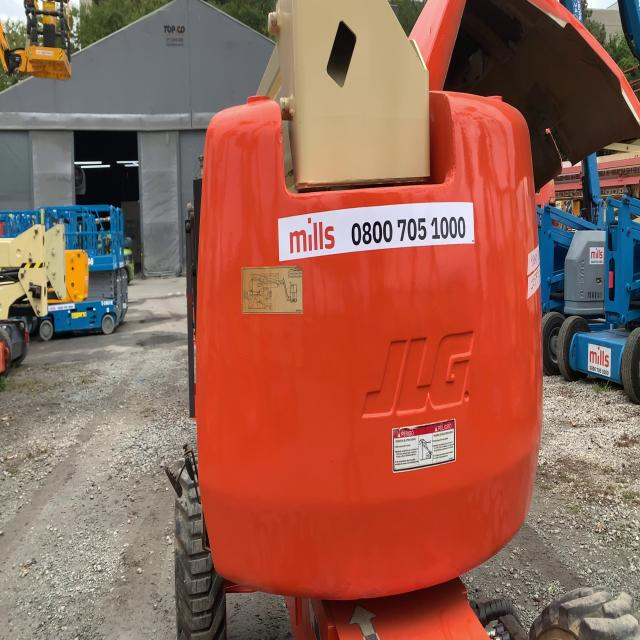Adesivo Longo: (277, 200, 476, 263)
